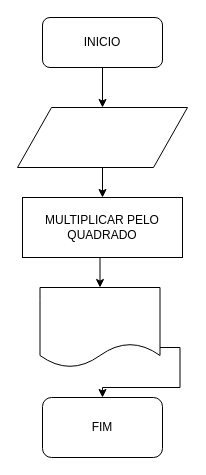
Image size: 206x475. Some labels were removed from this diagram. Each missing label, with the box of its shape:
APRESENTAR RESULTADO: (39, 286, 160, 368)
LER UM NUMERO: (16, 106, 188, 168)
